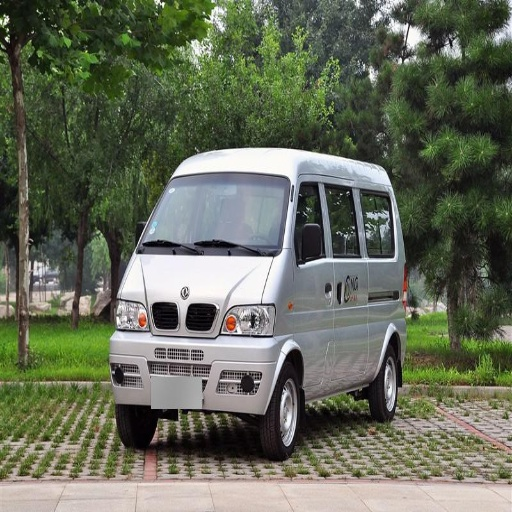front_bumper: (112, 297, 285, 412)
front_glass: (139, 172, 289, 256)
front_left_door: (294, 178, 350, 386)
